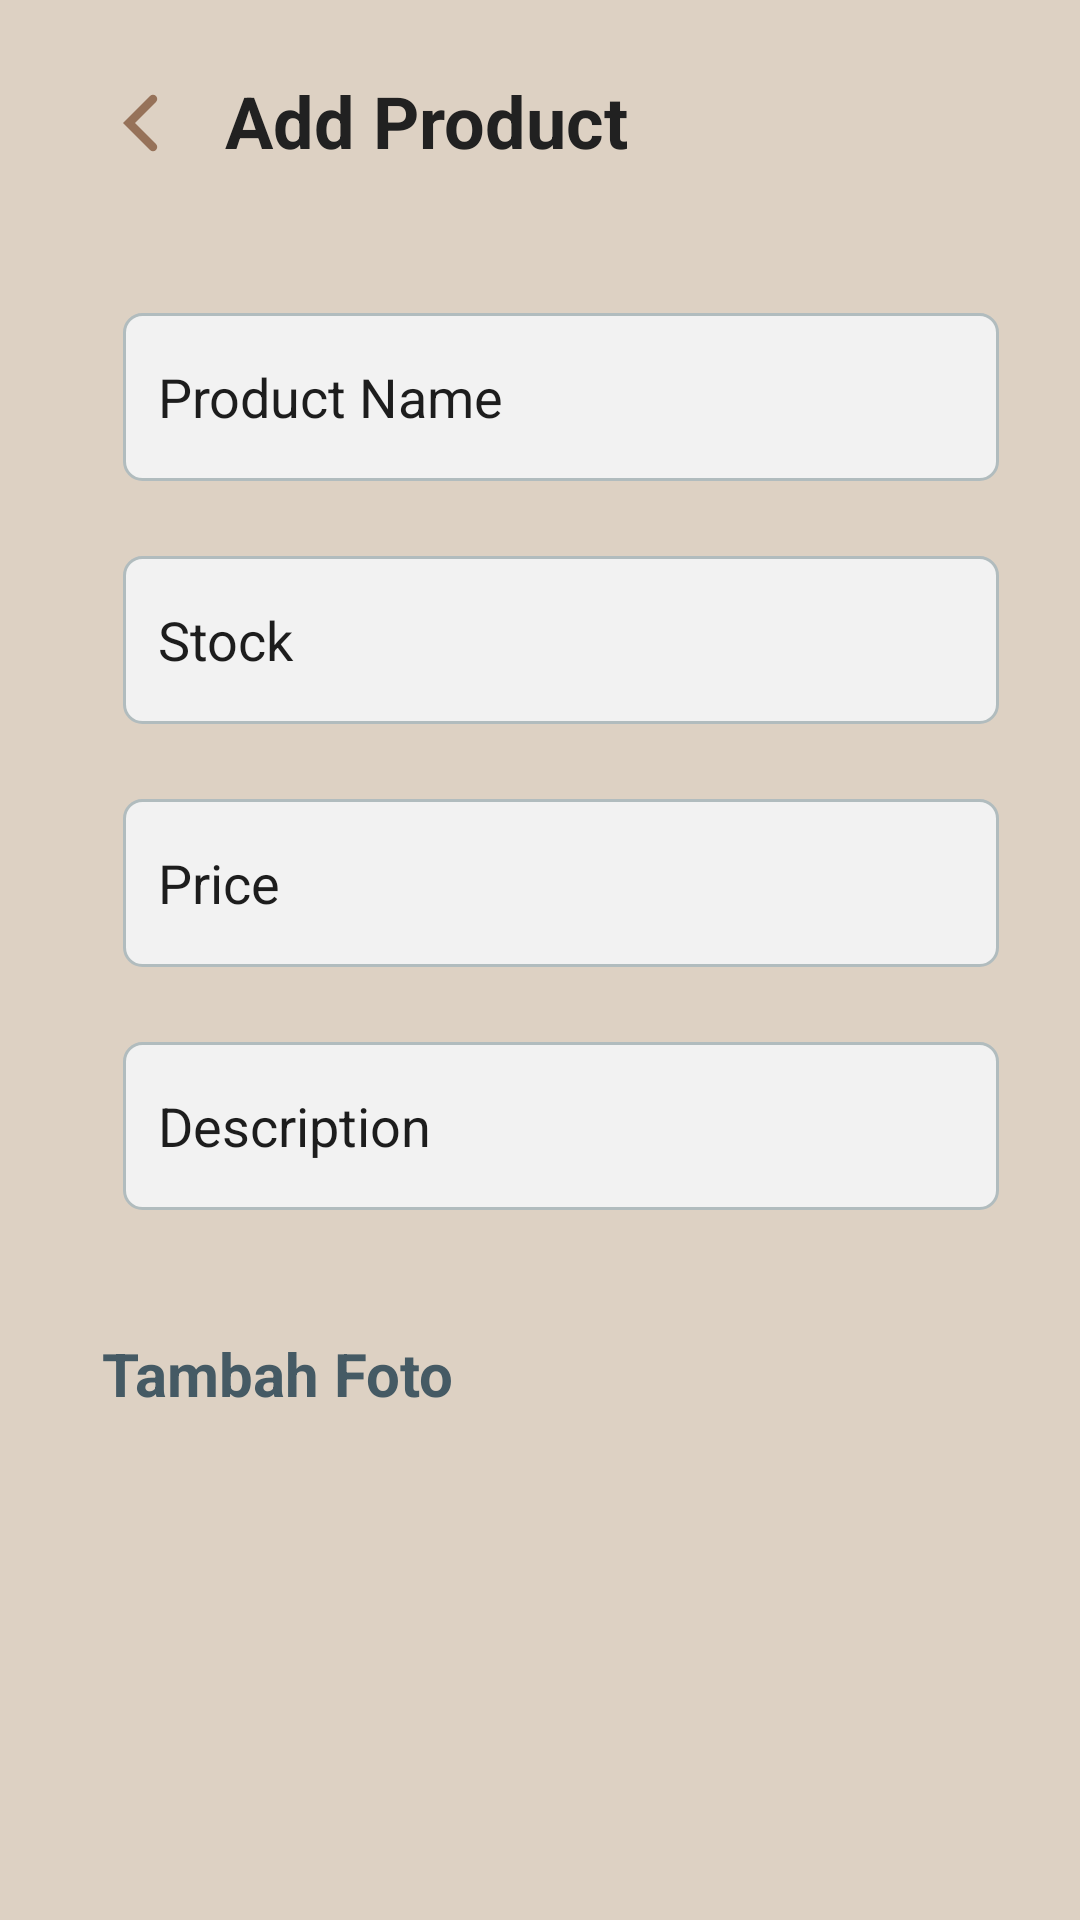

Where icons sit on this 1080w x 1920h app screen, as (x1,y1,x2,y2):
back: (123,95,157,151)
